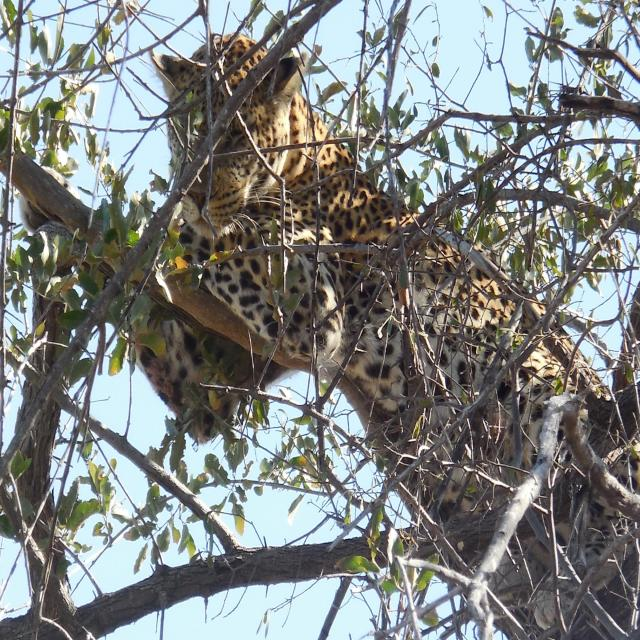Leopard: (111, 36, 638, 620)
